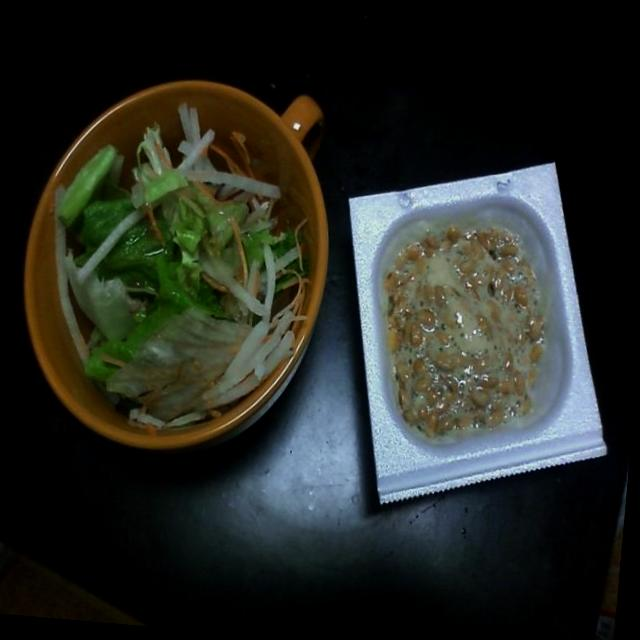Green Salad: (22, 90, 326, 444)
